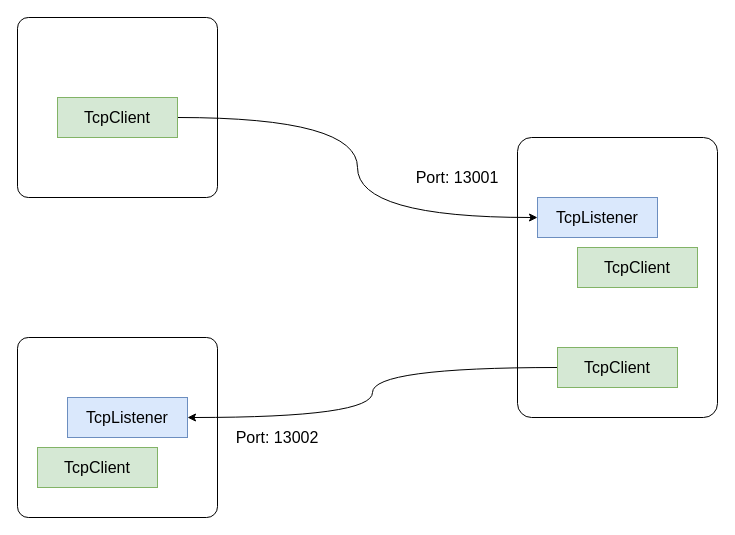
This 735x535 diagram has some shape labels left out. The shapes that lost their labels are listed below. From the top down, each one's box as (x1, y1, x2, y2) in pixels, then its label:
(16, 16, 218, 198): Data Generator
(516, 136, 718, 418): Data Decryptor
(16, 336, 218, 518): Data Receiver
